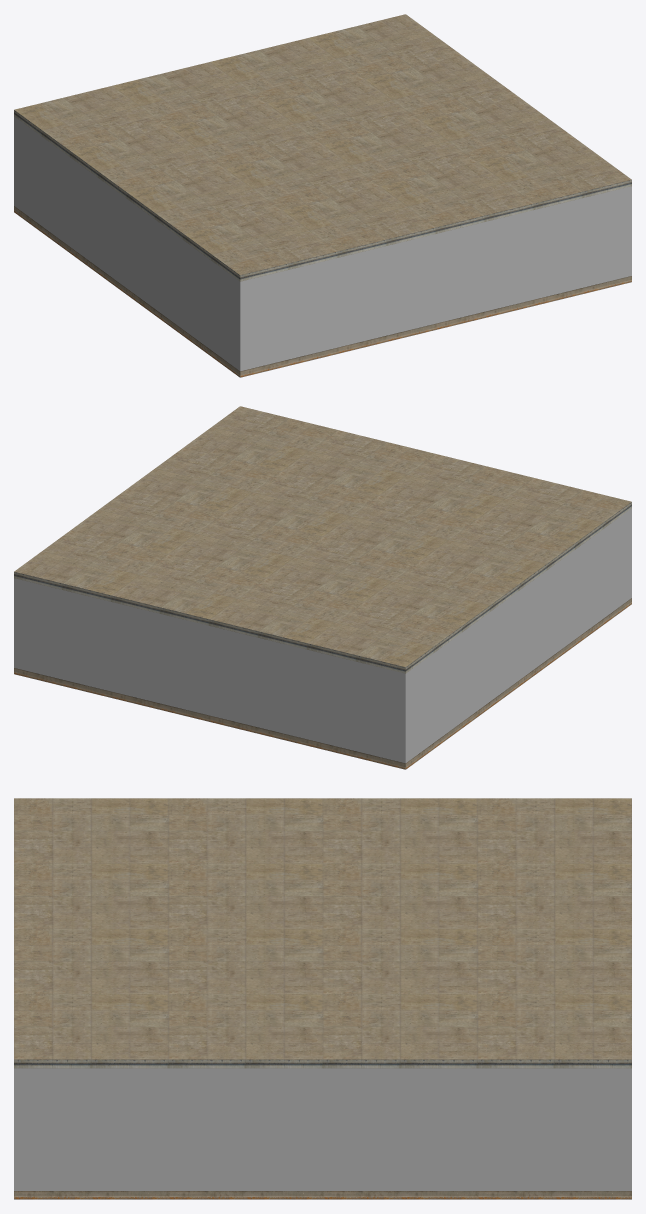
Rendered from HorNormUnitTEST.fbx.
3 views of the same model, one above another, from view 1: azimuth 30°, elevation 25°; view 2: azimuth 150°, elevation 25°; view 3: azimuth 270°, elevation 25° (orthographic). The views are drawn at different scales.
Parts seen in each view (by area): view 1: HorNormUnitTEST_Lod0; view 2: HorNormUnitTEST_Lod0; view 3: HorNormUnitTEST_Lod0.
Boxes of the visible parts, box(x1,y1,x2,y2) form: HorNormUnitTEST_Lod0: box(14, 14, 631, 377); HorNormUnitTEST_Lod0: box(14, 406, 631, 769); HorNormUnitTEST_Lod0: box(14, 798, 631, 1199).
Bounding box in the file's own units: 64 × 16 × 64.
